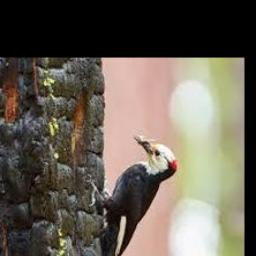Woodpecker: (86, 132, 175, 256)
